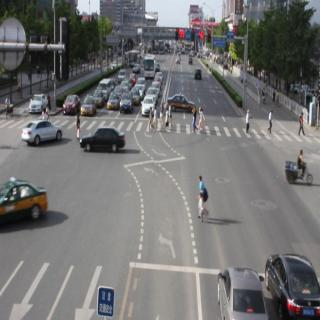BigCar: (140, 94, 158, 122), (142, 50, 156, 80)
Car: (261, 237, 320, 320), (212, 254, 268, 320), (0, 176, 51, 234), (15, 113, 62, 152), (80, 128, 129, 156), (166, 92, 197, 121), (28, 84, 46, 116), (59, 92, 79, 116), (79, 93, 98, 117), (97, 73, 112, 102), (120, 85, 134, 116)
